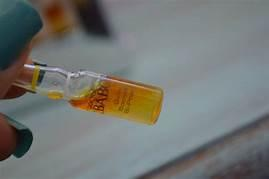Syringe: (19, 57, 169, 130)
